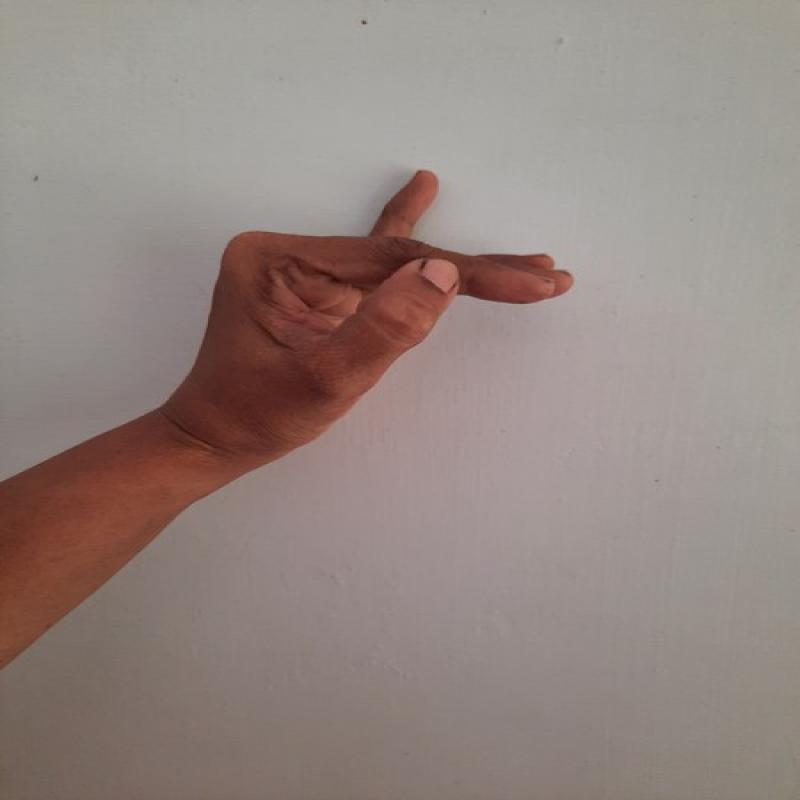Kartharee Mukham: (169, 158, 585, 458)
